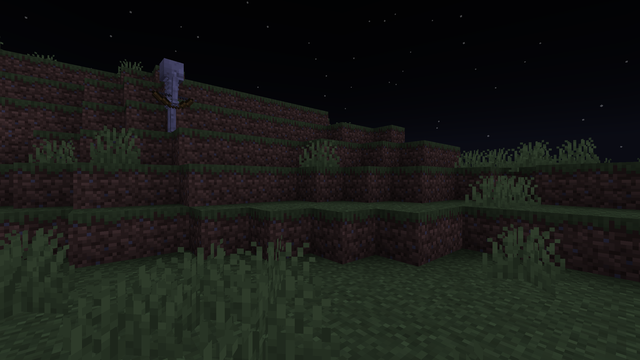squelettes: (157, 57, 184, 133)
